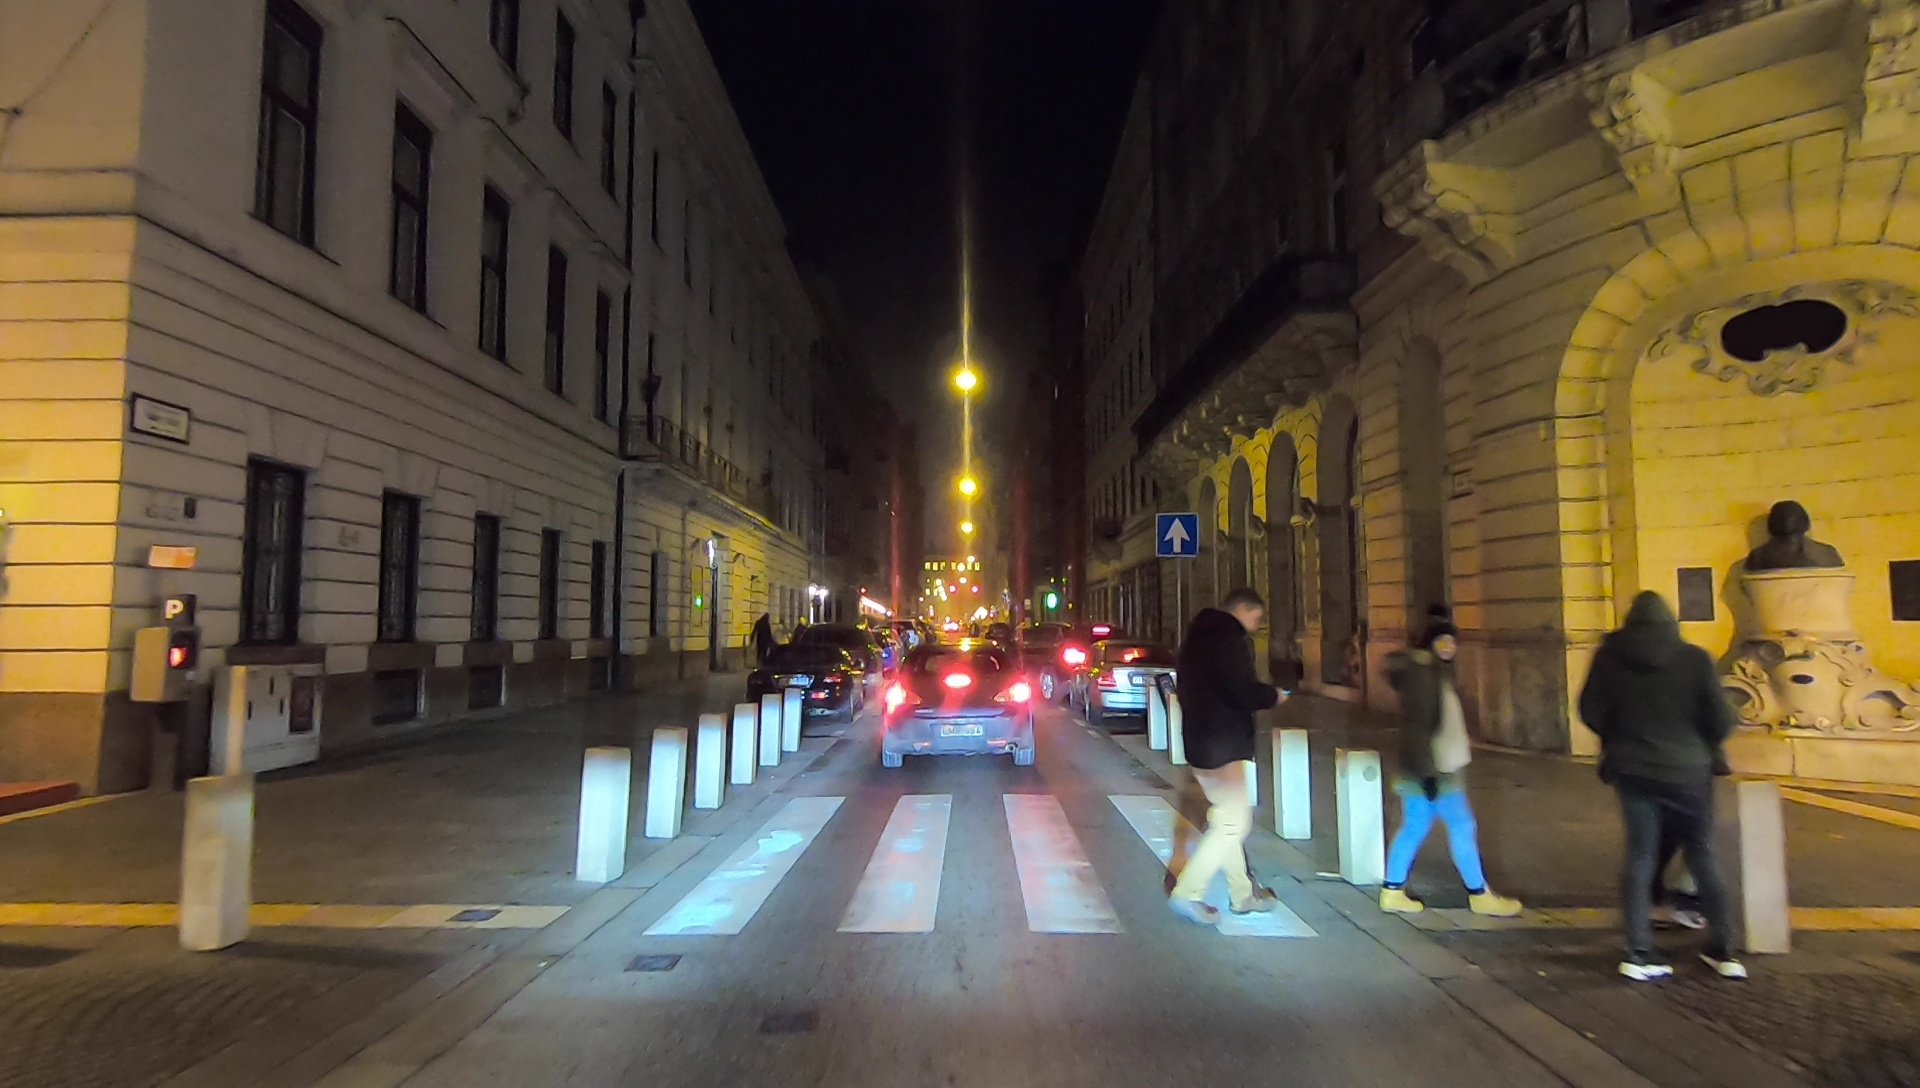person: (1582, 597, 1754, 995), (1358, 610, 1530, 923), (1169, 582, 1278, 928), (749, 611, 776, 671)
